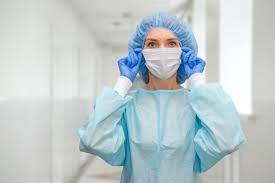glove: (115, 45, 145, 84), (180, 44, 208, 84)
